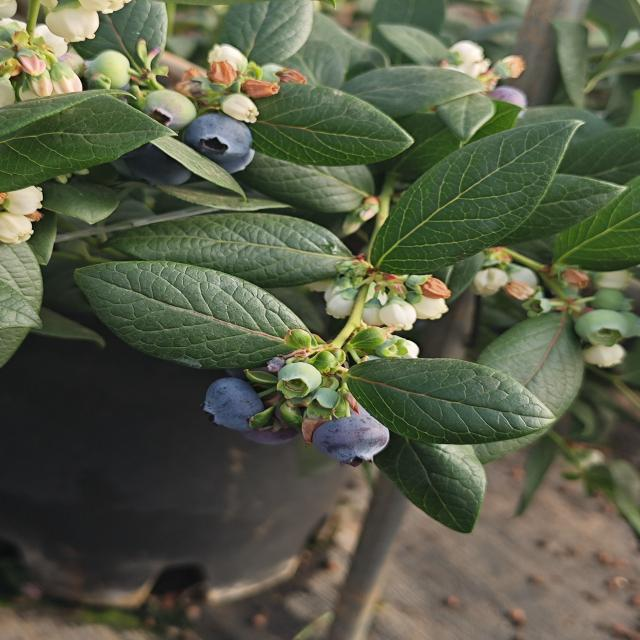ripe: (200, 376, 300, 448), (180, 112, 258, 176), (309, 412, 392, 469)
